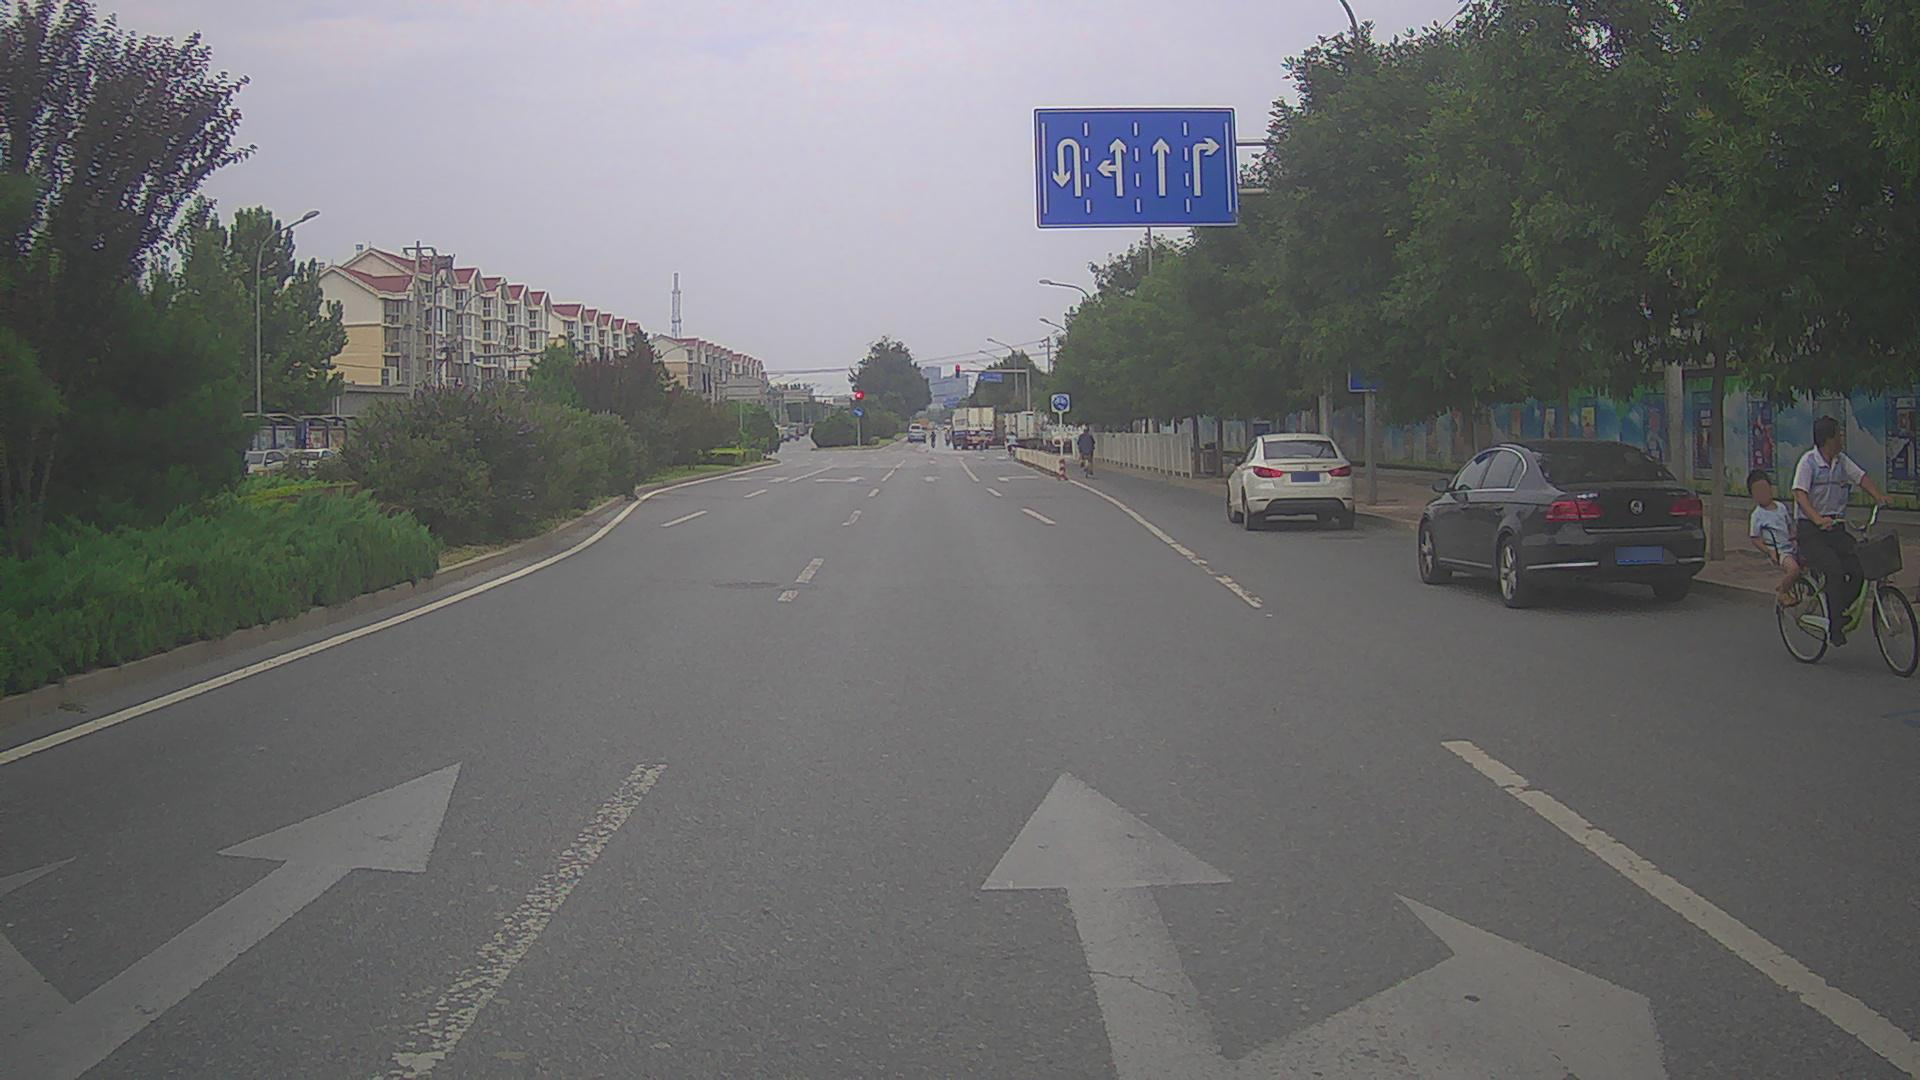car: (1417, 437, 1707, 607), (1225, 433, 1355, 530), (230, 448, 293, 492), (276, 447, 338, 485), (908, 429, 928, 442)
cyclist: (1746, 415, 1918, 676), (1076, 424, 1095, 479), (929, 431, 936, 449)
ignore: (997, 410, 1074, 451), (774, 421, 813, 443), (920, 418, 951, 429)
motorcyclist: (1005, 430, 1017, 458), (978, 427, 987, 450), (944, 429, 952, 445)
truck: (951, 405, 994, 448)
van: (907, 424, 921, 440)
